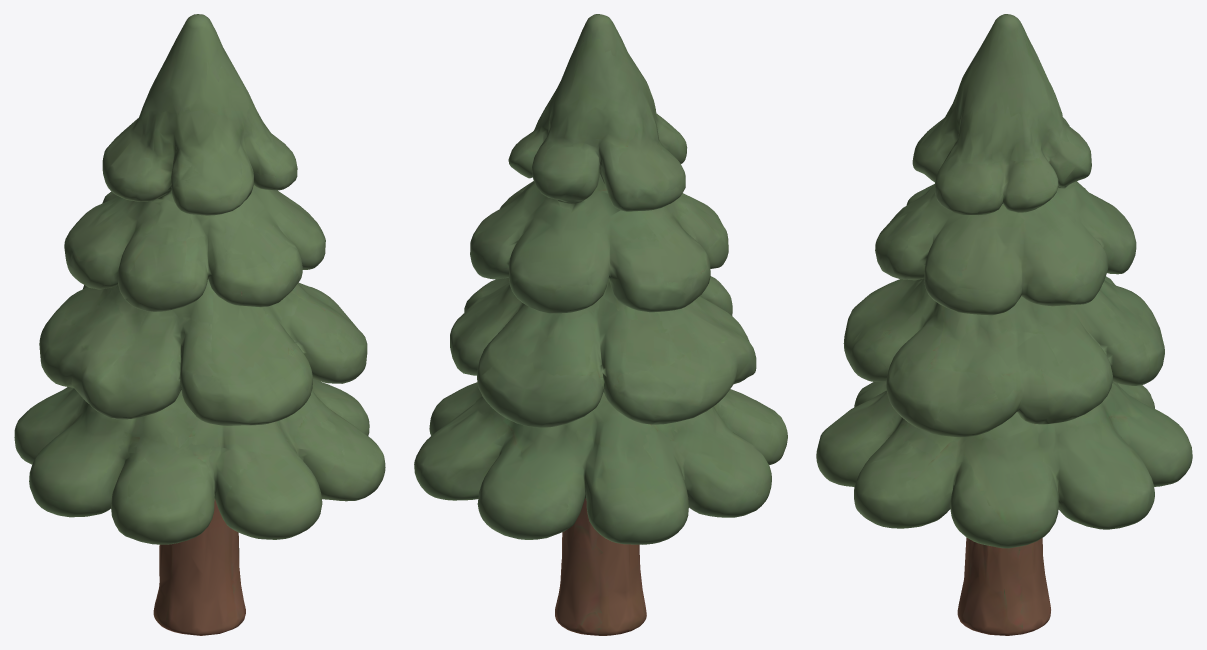
Rendered from pine-4.glb.
The picture shows the model from 3 angles, left to right: view 1: azimuth 30°, elevation 25°; view 2: azimuth 150°, elevation 25°; view 3: azimuth 270°, elevation 25°; orthographic projection.
Size of the model in its own units: 1.07 by 1.9 by 1.08.
1 material, 1 textured.
